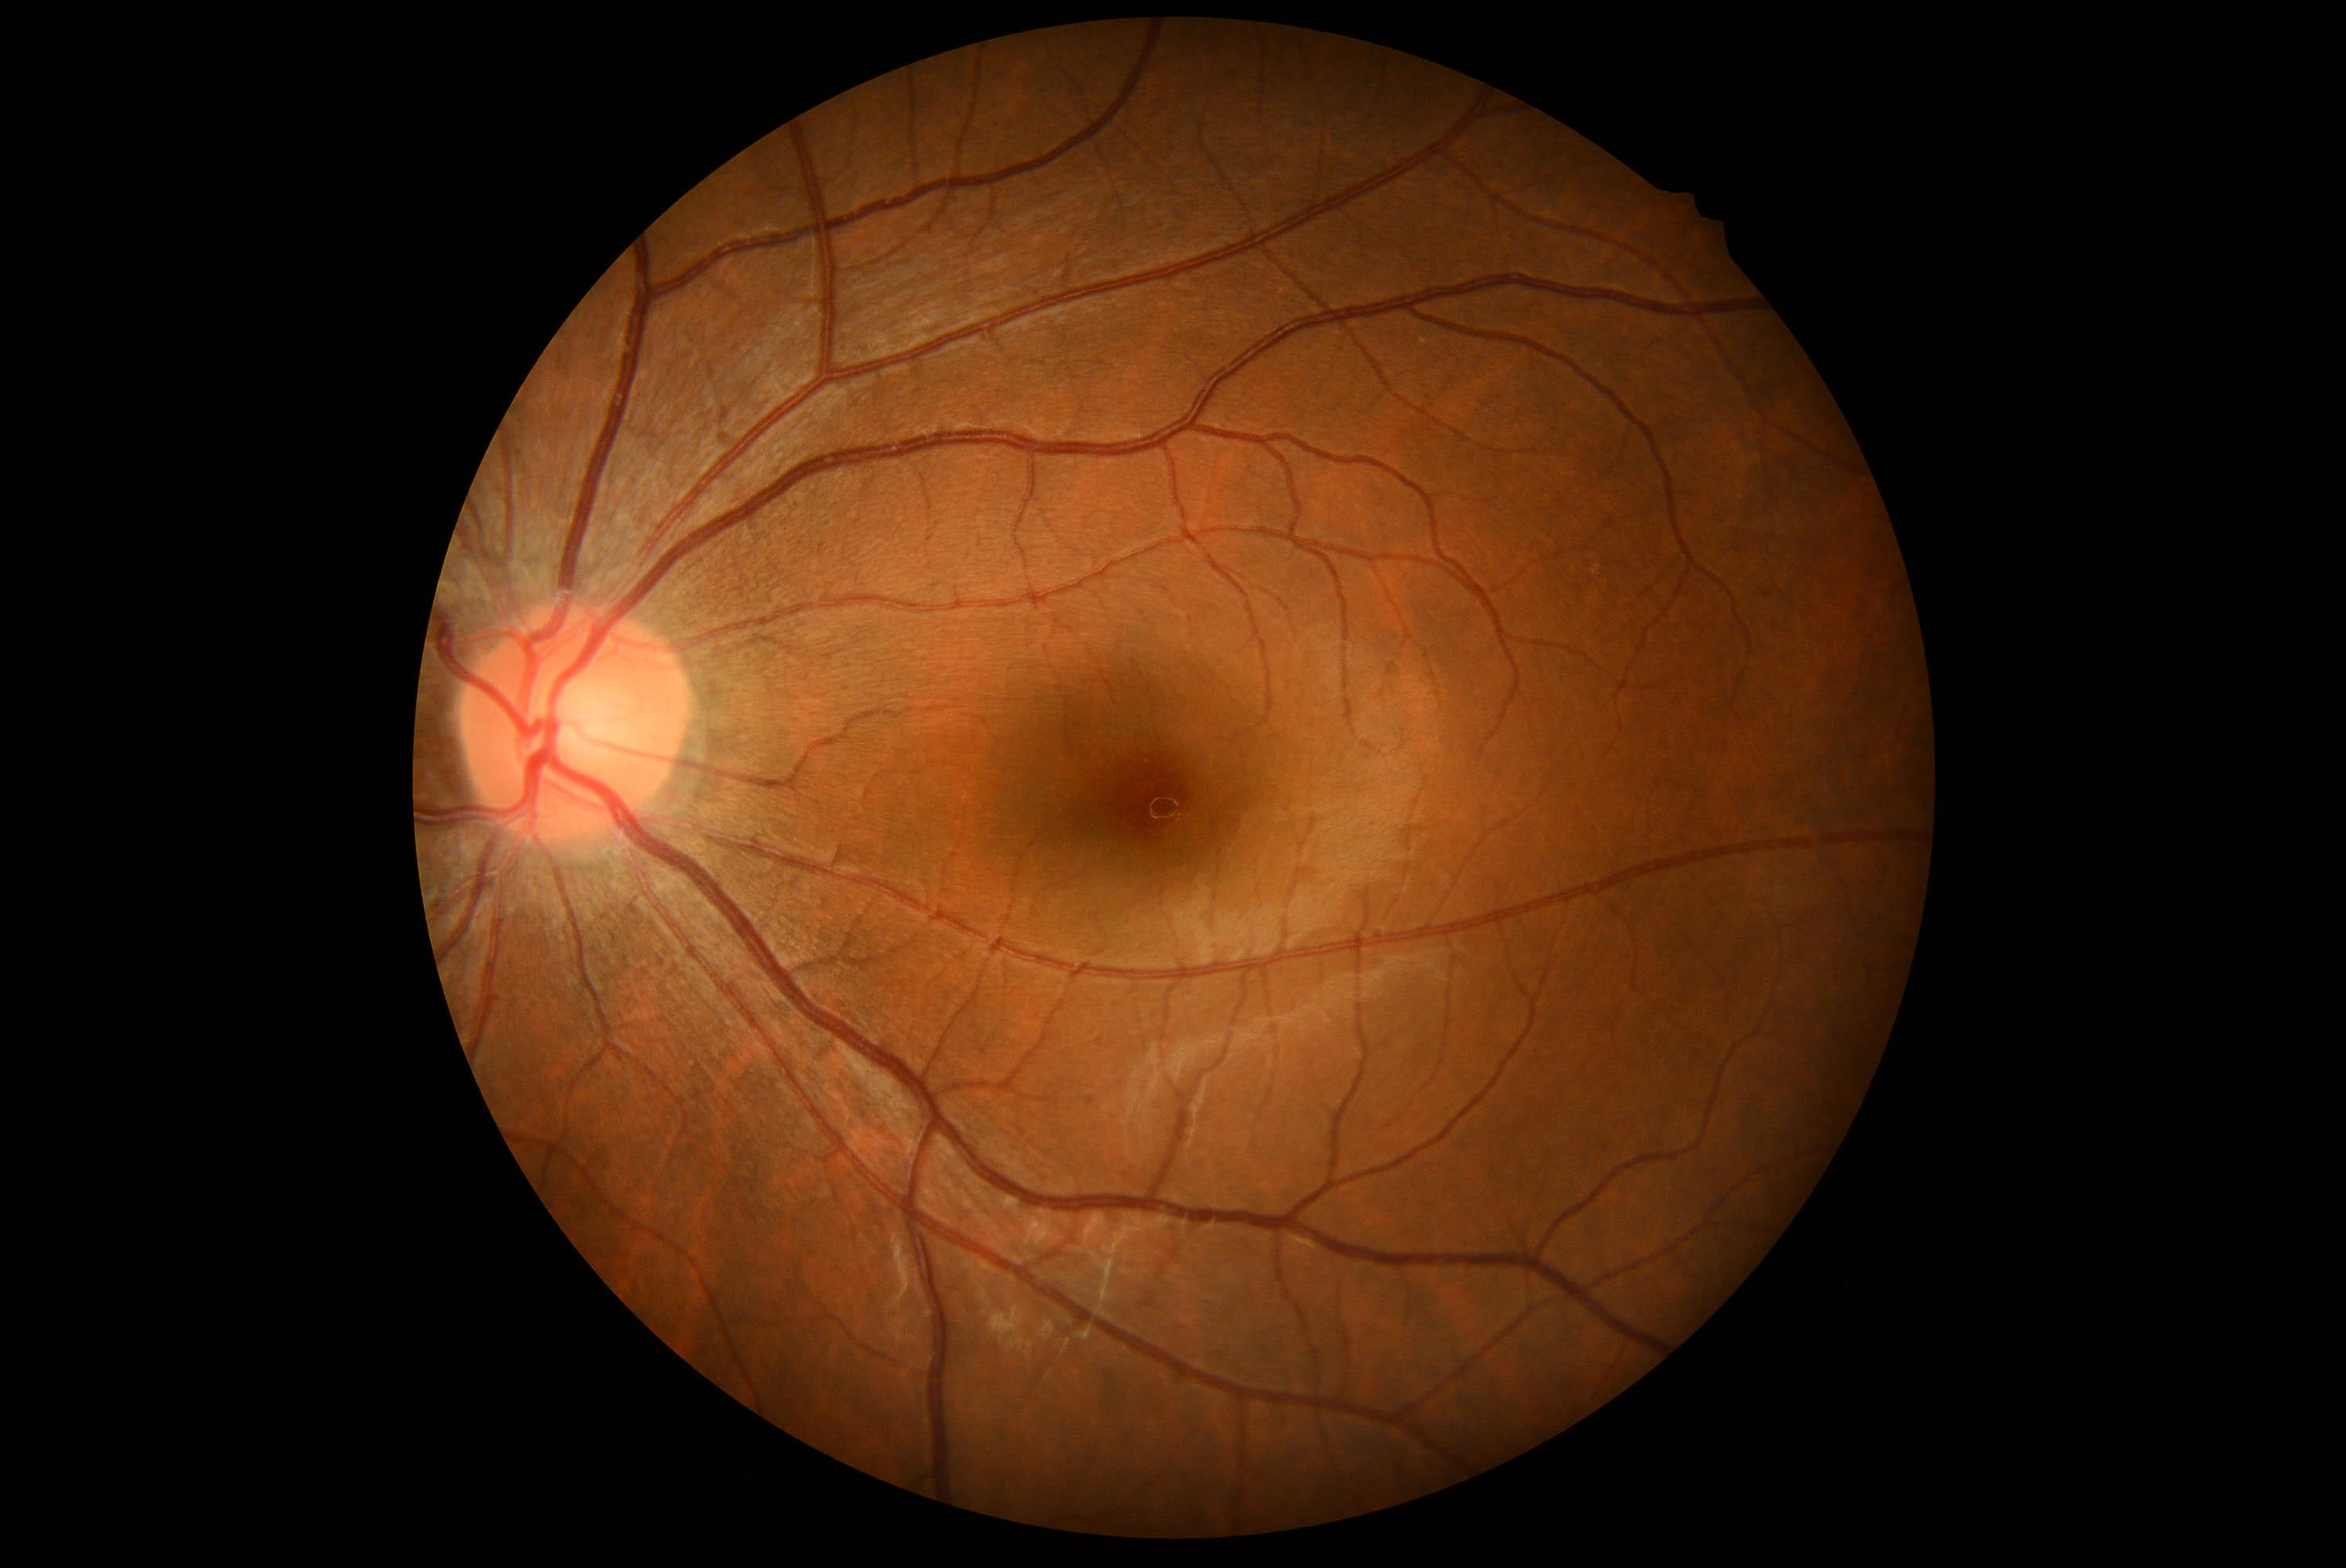Fovea: (1086, 726, 1233, 875)
